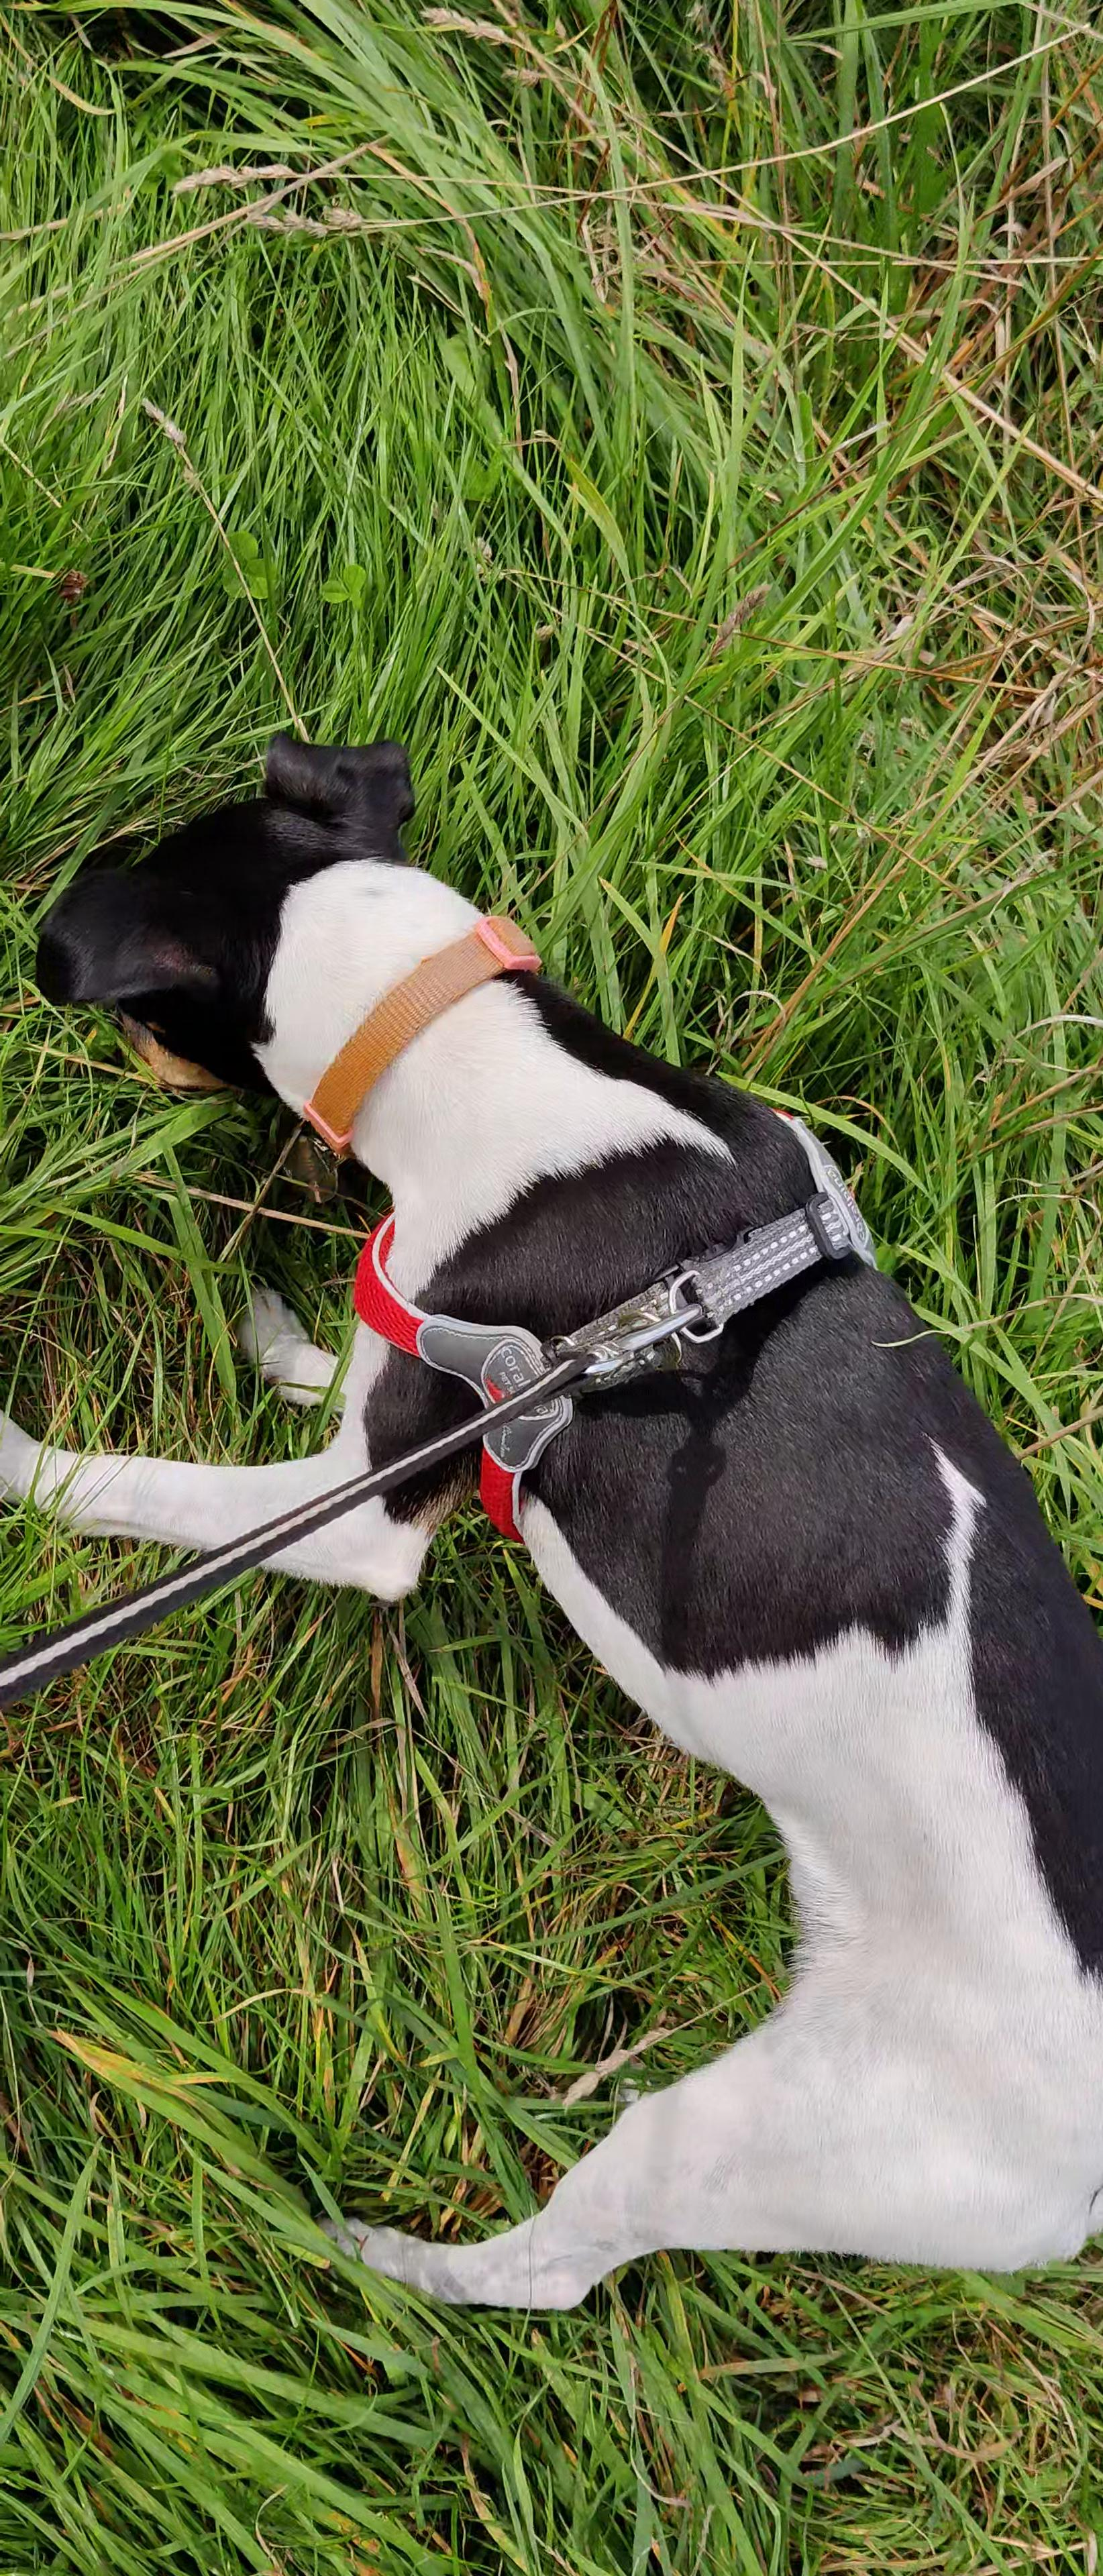Dog: (0, 693, 1103, 2351)
